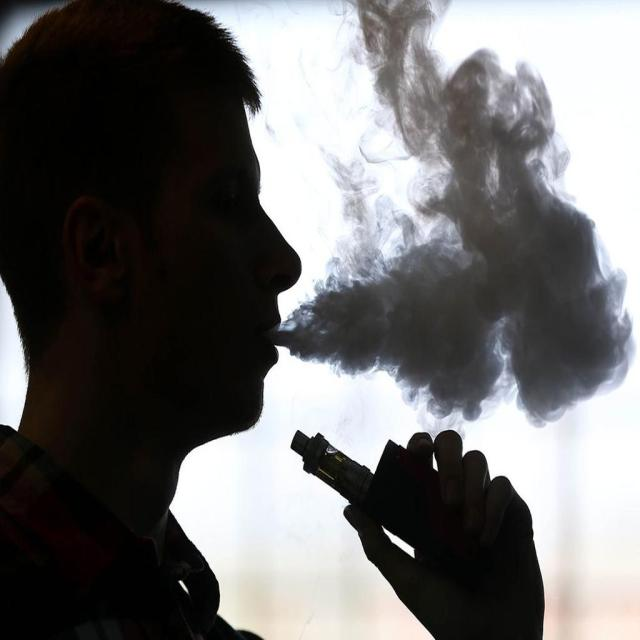smoking: (57, 16, 544, 619)
